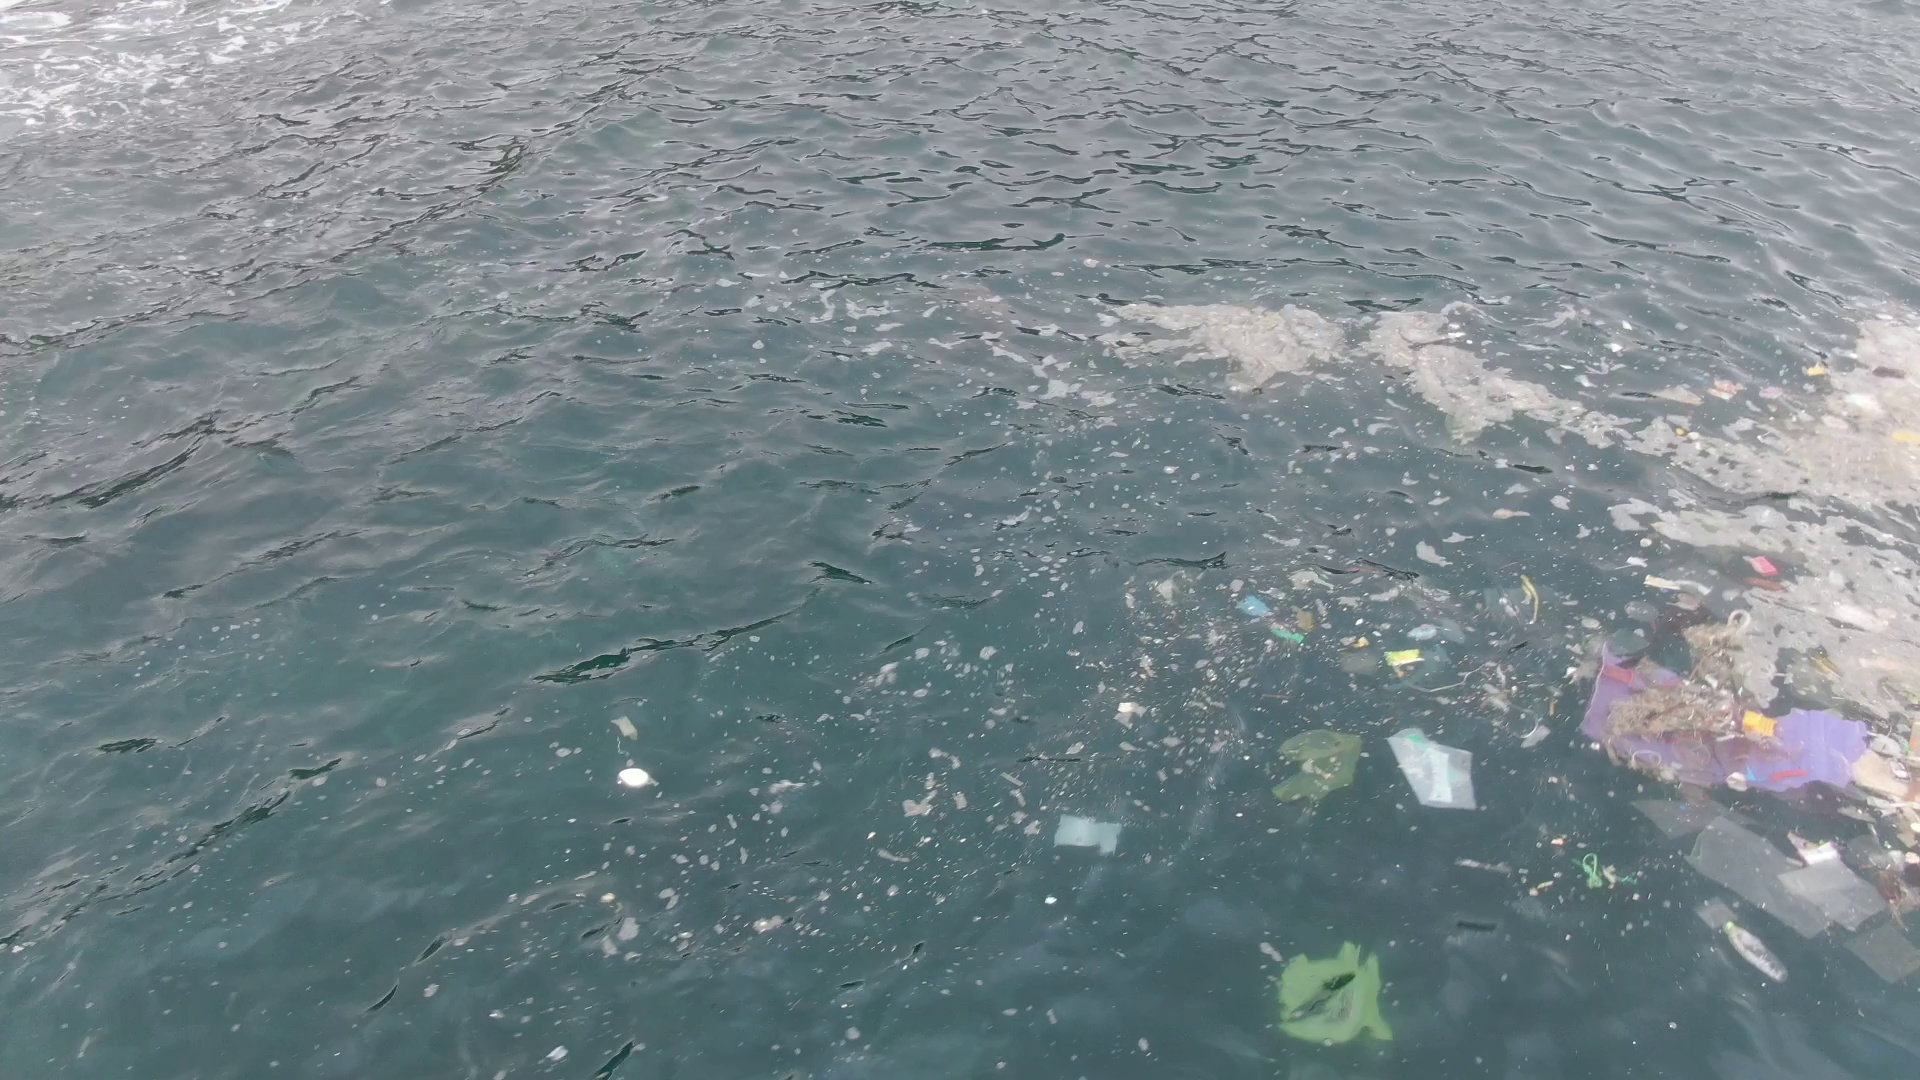bottle: (1725, 916, 1787, 985)
garbage: (1573, 636, 1920, 811), (1695, 815, 1920, 982), (1278, 938, 1396, 1043), (1386, 727, 1476, 815), (1280, 729, 1361, 799), (1052, 811, 1124, 851), (1575, 852, 1643, 890), (1520, 574, 1542, 622), (1234, 593, 1273, 620), (1746, 554, 1782, 582), (1383, 647, 1427, 665), (1708, 376, 1741, 398), (618, 765, 647, 790), (1271, 622, 1305, 642)
